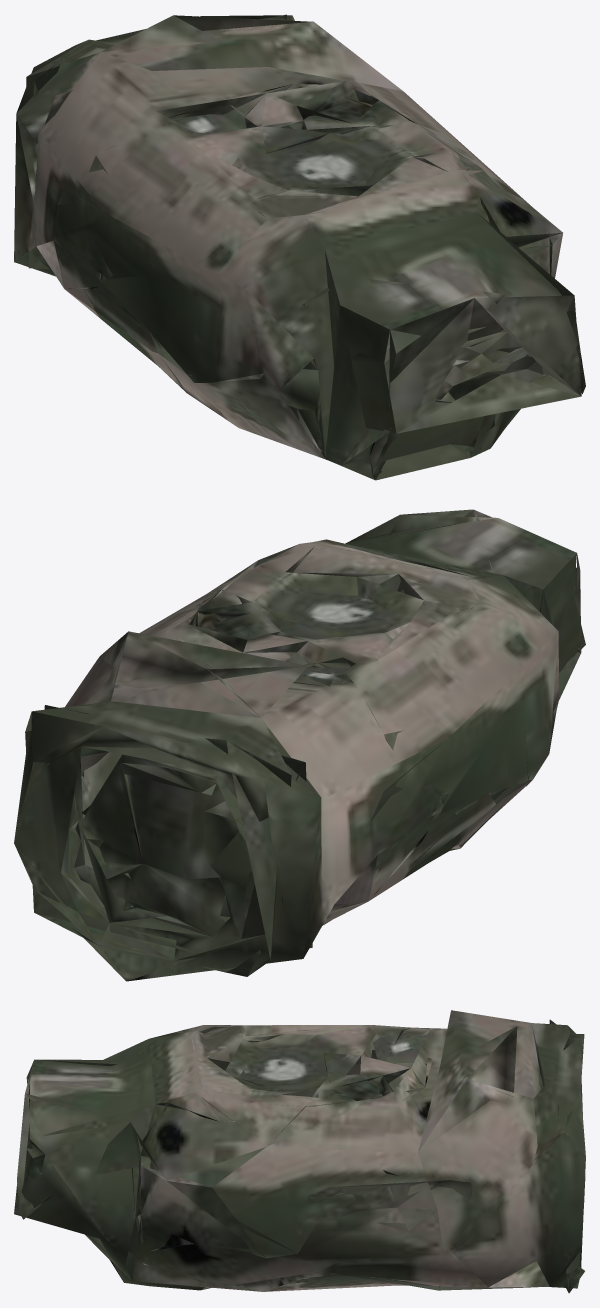
File: power_plant_78830161_lod0.glb
The picture shows the model from 3 angles, top to bottom: view 1: azimuth 30°, elevation 25°; view 2: azimuth 150°, elevation 25°; view 3: azimuth 270°, elevation 25°; orthographic projection. The views are drawn at different scales.
Bounding box in the file's own units: 7.83 × 6.57 × 13.91.
1 material, 1 textured.
